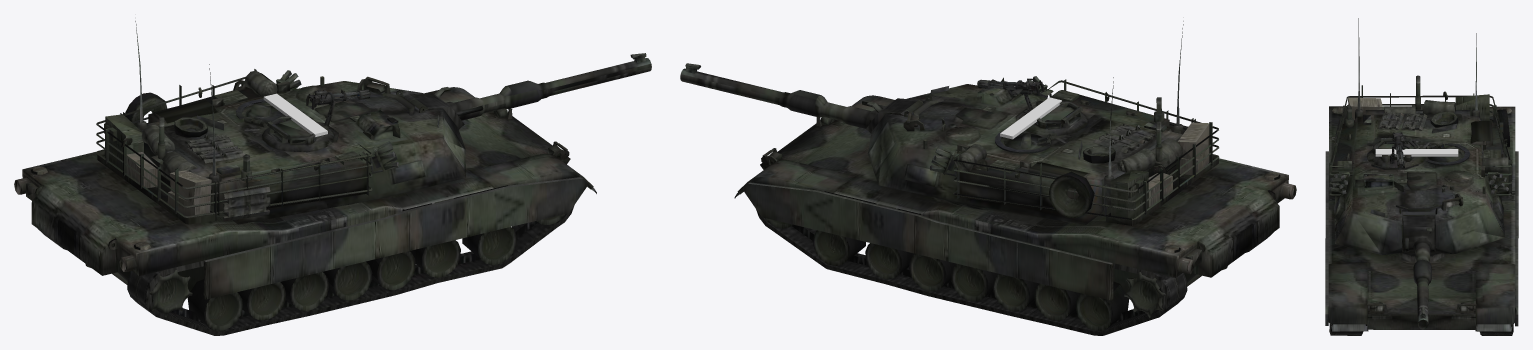
3 views of the same model, side by side, from view 1: azimuth 30°, elevation 25°; view 2: azimuth 150°, elevation 25°; view 3: azimuth 270°, elevation 25° (orthographic). The views are drawn at different scales.
Parts seen in each view (by area): view 1: g_m1a1_hull, g_m1a1_turret, g_m1a1_gun; view 2: g_m1a1_hull, g_m1a1_turret, g_m1a1_gun; view 3: g_m1a1_turret, g_m1a1_hull, g_m1a1_gun.
Boxes of the visible parts, x1,y1,x2,y2 form: g_m1a1_hull: (14,87,596,335); g_m1a1_turret: (96,21,646,224); g_m1a1_gun: (405,58,651,129); g_m1a1_hull: (734,95,1296,335); g_m1a1_turret: (685,21,1219,224); g_m1a1_gun: (680,68,923,133); g_m1a1_turret: (1328,18,1511,318); g_m1a1_hull: (1325,75,1518,335); g_m1a1_gun: (1403,215,1434,329).
Size of the model in its own units: 9.8 by 4.26 by 3.49.
4 materials, 3 textured.
